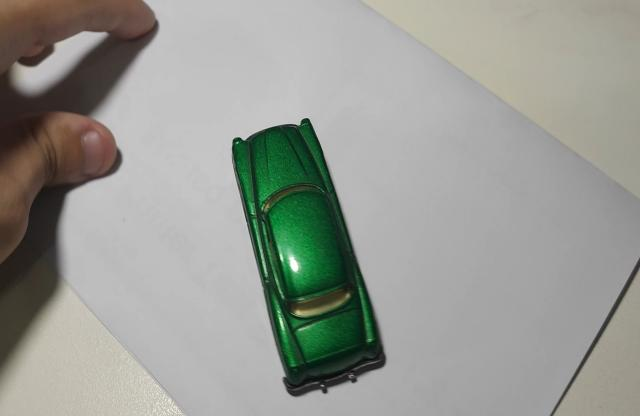06_MASERATI: (231, 120, 388, 398)
